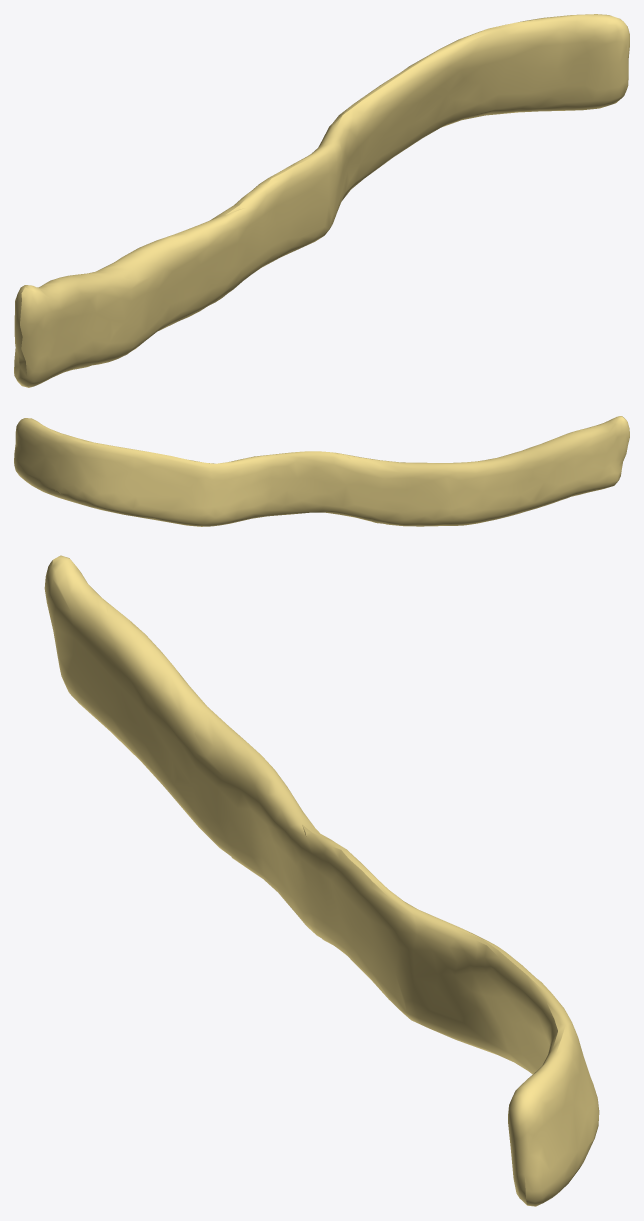
Rendered from fma73617_mm2684.glb.
3 renders of one model, top to bottom at view 1: azimuth 30°, elevation 25°; view 2: azimuth 150°, elevation 25°; view 3: azimuth 270°, elevation 25°, orthographic. The views are drawn at different scales.
Visible parts, largest first — view 1: FMA73617_MM2684; view 2: FMA73617_MM2684; view 3: FMA73617_MM2684.
Boxes of the visible parts, x1=… form: FMA73617_MM2684: x1=14, y1=14, x2=629, y2=387; FMA73617_MM2684: x1=14, y1=416, x2=629, y2=526; FMA73617_MM2684: x1=44, y1=555, x2=599, y2=1206.
Bounding box in the file's own units: 0.0186 × 0.00367 × 0.009.
